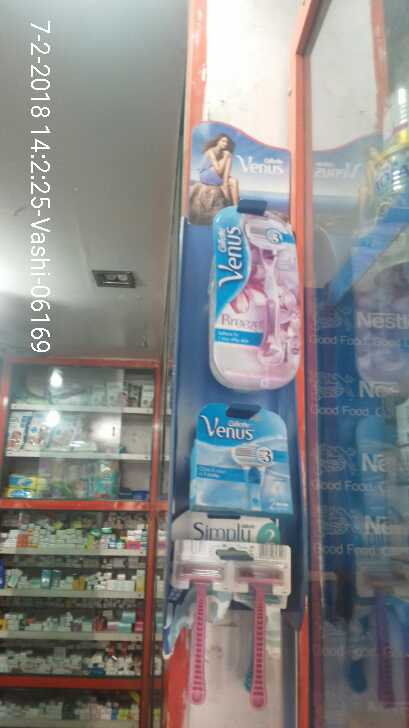venus: (206, 191, 306, 392), (184, 396, 297, 522)
